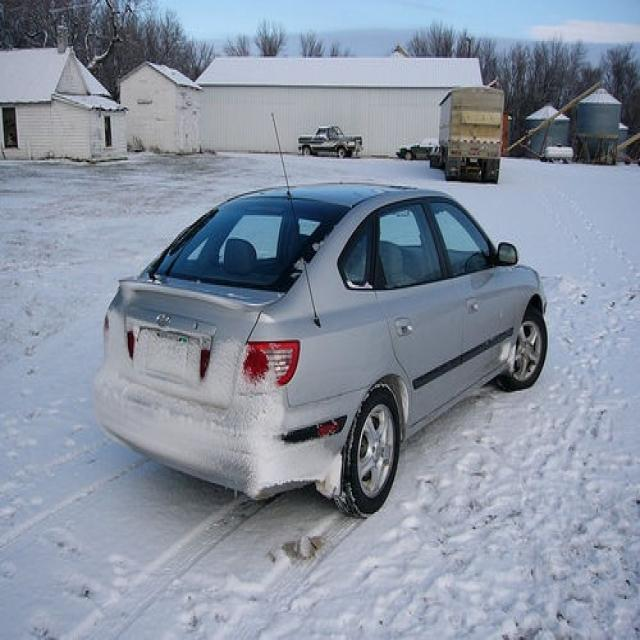car: (98, 181, 548, 517), (297, 121, 365, 162), (394, 133, 442, 162)
